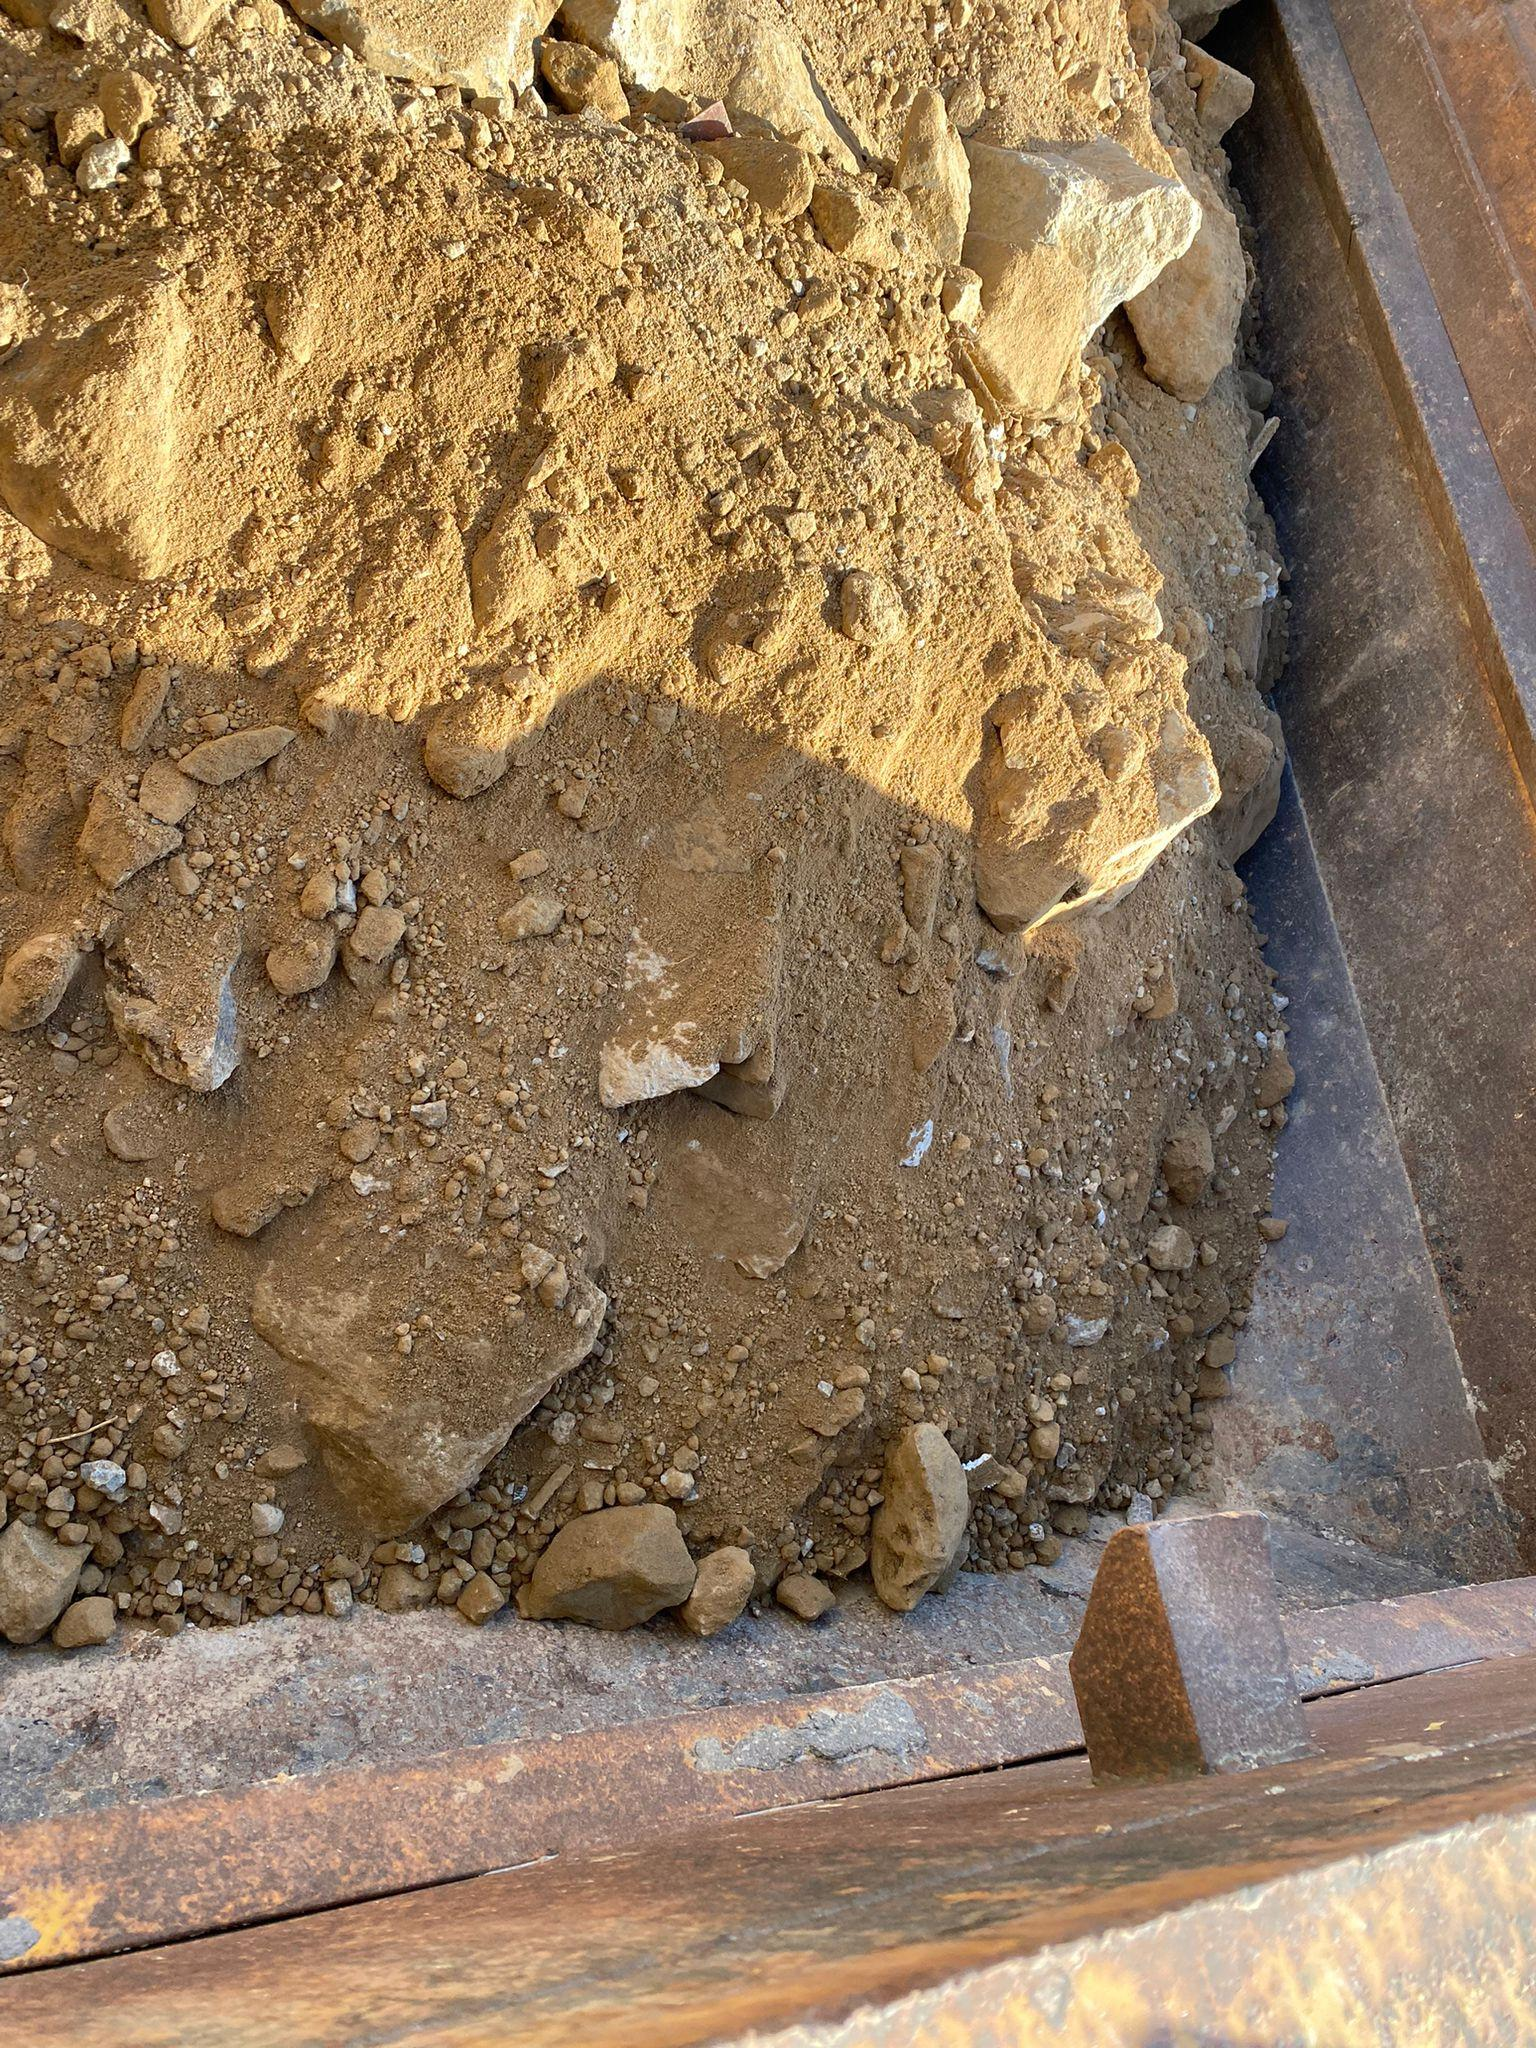stone: (1067, 1508, 1321, 1787), (514, 1500, 697, 1631), (867, 1419, 972, 1611)
